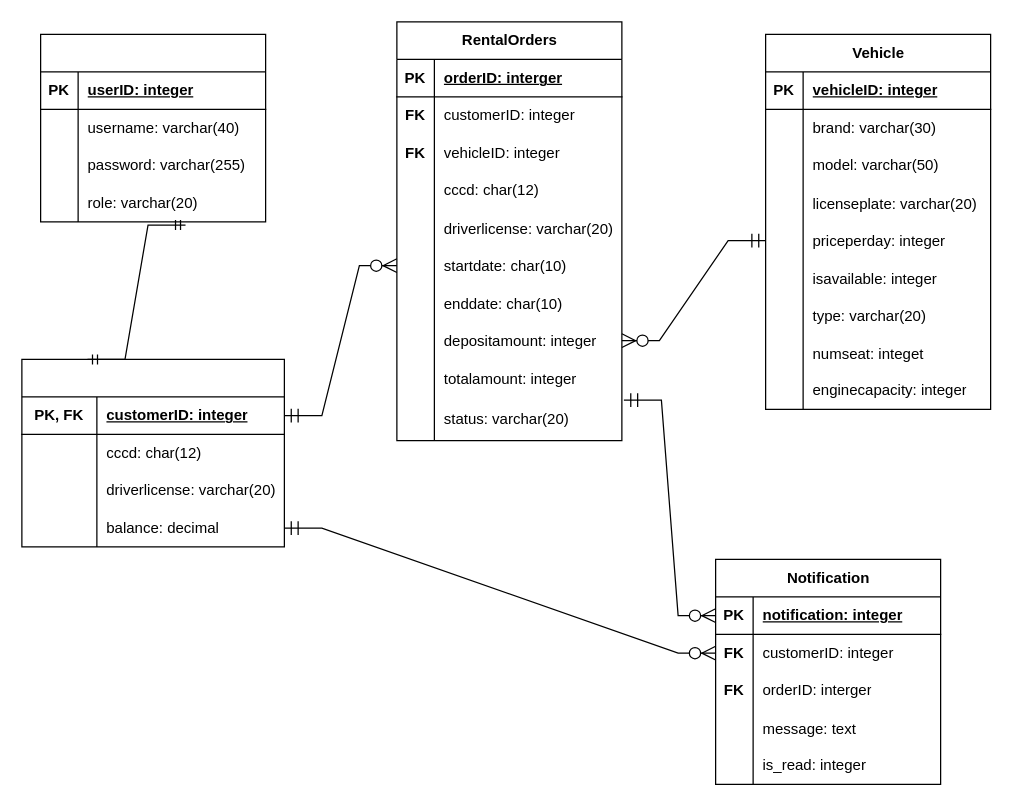
Image size: 1013x806. Some labels were removed from this diagram. The shapes that lost their labels are listed below. From the top down, each one's box as (x1, y1, x2, y2) in pixels, then its label:
(39, 33, 266, 222): Users
(21, 358, 284, 547): Customers
